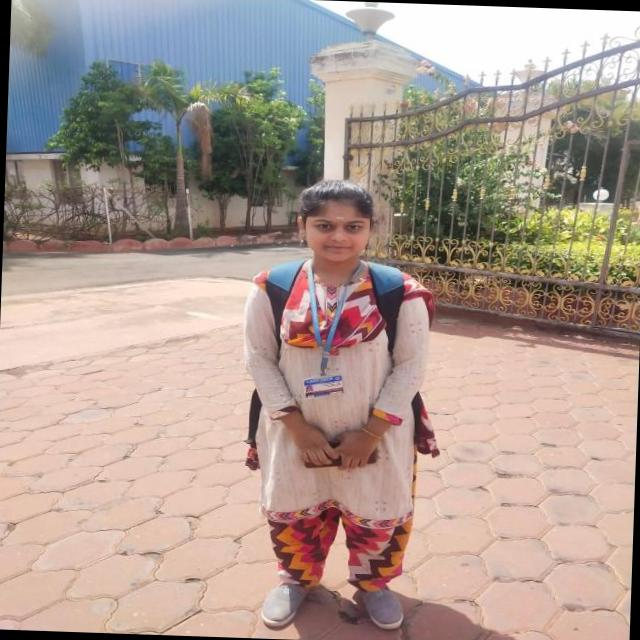id_card: (302, 260, 362, 398)
